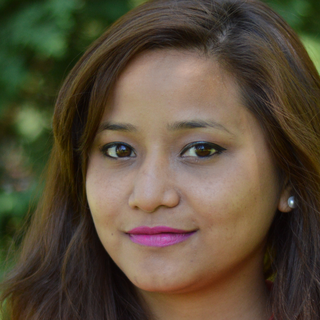eye: (175, 138, 230, 164), (98, 138, 142, 165)
